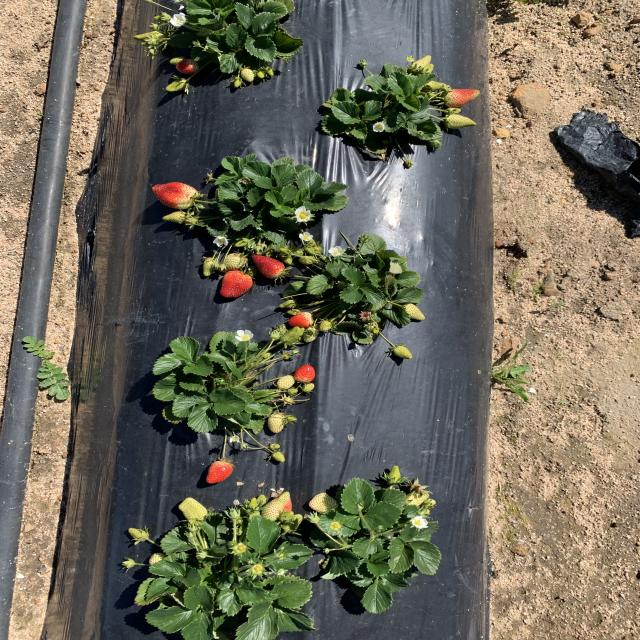unripe: (218, 270, 255, 301), (252, 253, 287, 279), (205, 459, 234, 485), (294, 364, 316, 384)
